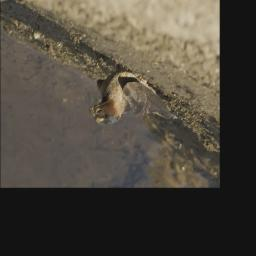Swallow: (90, 68, 174, 126)
